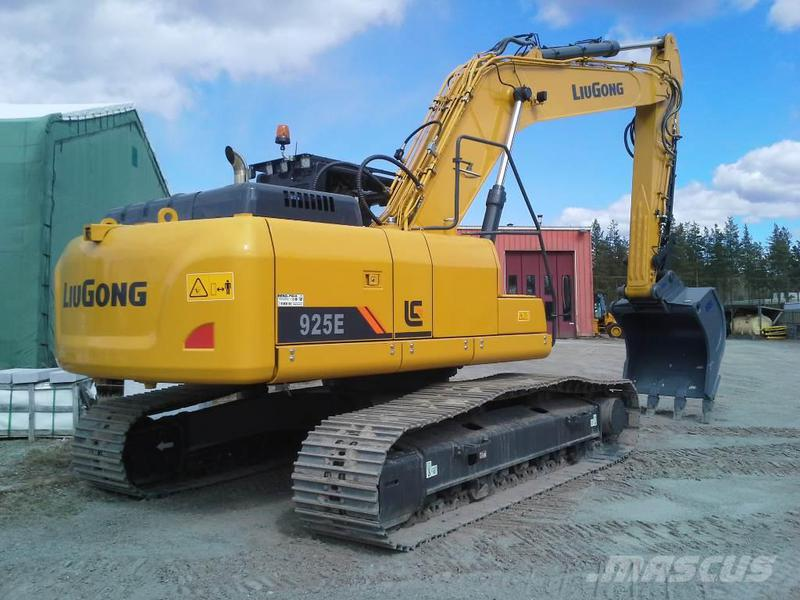shovel: (49, 29, 724, 558)
